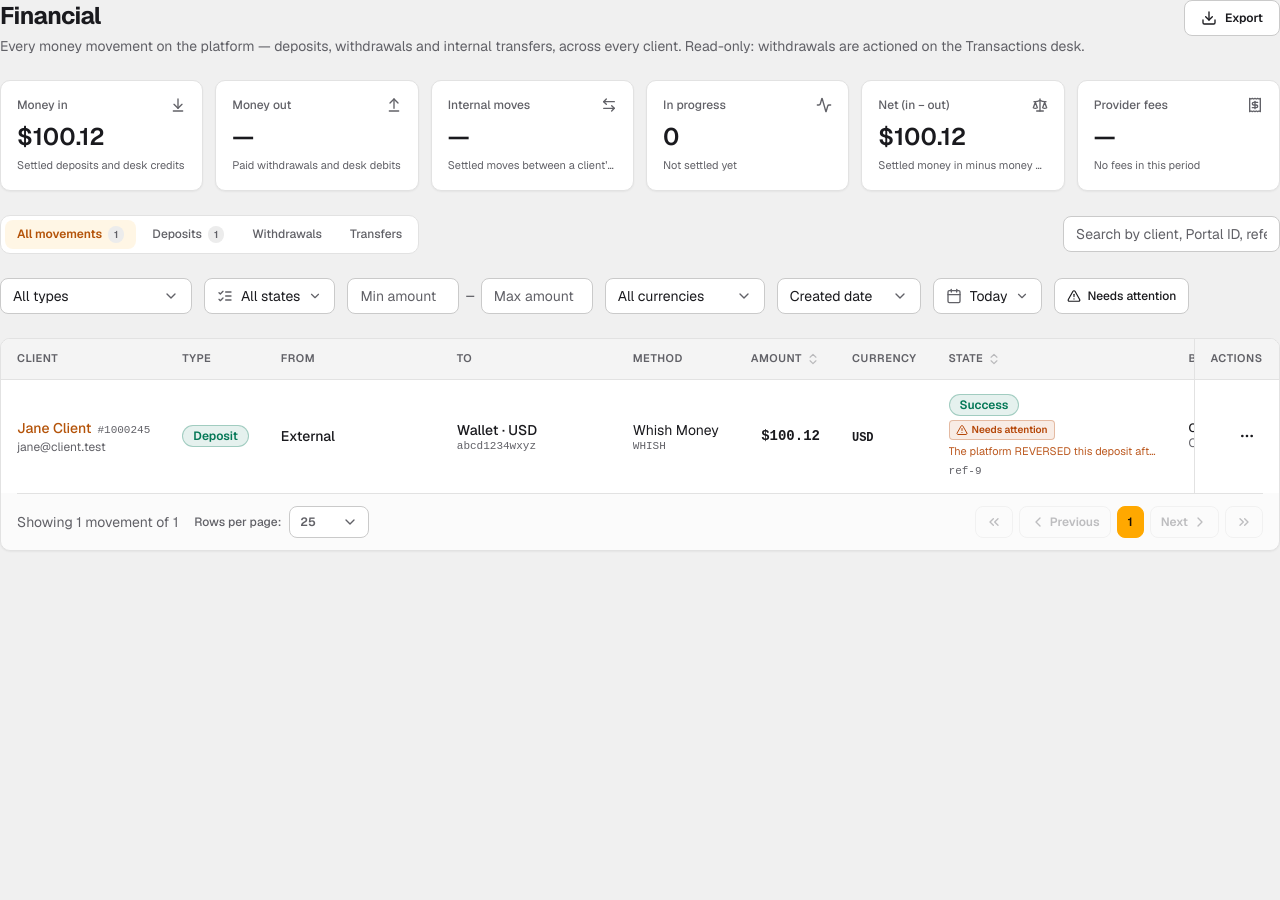
Test: a payment only a person can settle — the attention flag › keeps the refusal on screen — "somebody resolved it while you were looking"
Click the button named "Actions for this movement" at (1247, 436), box [1231,420,1263,452]
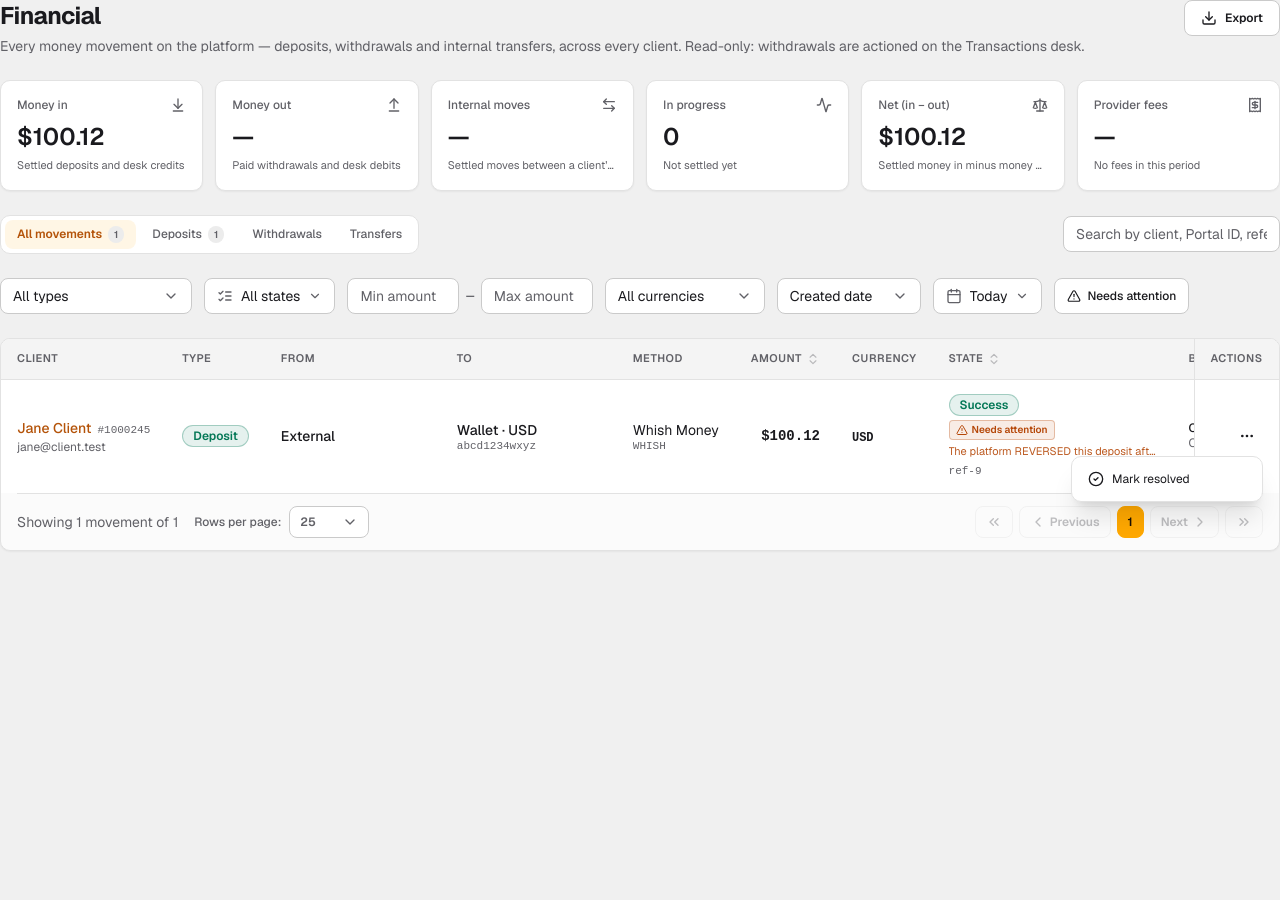
Click the menu item "Mark resolved" at (1139, 479), box [1088,471,1190,487]
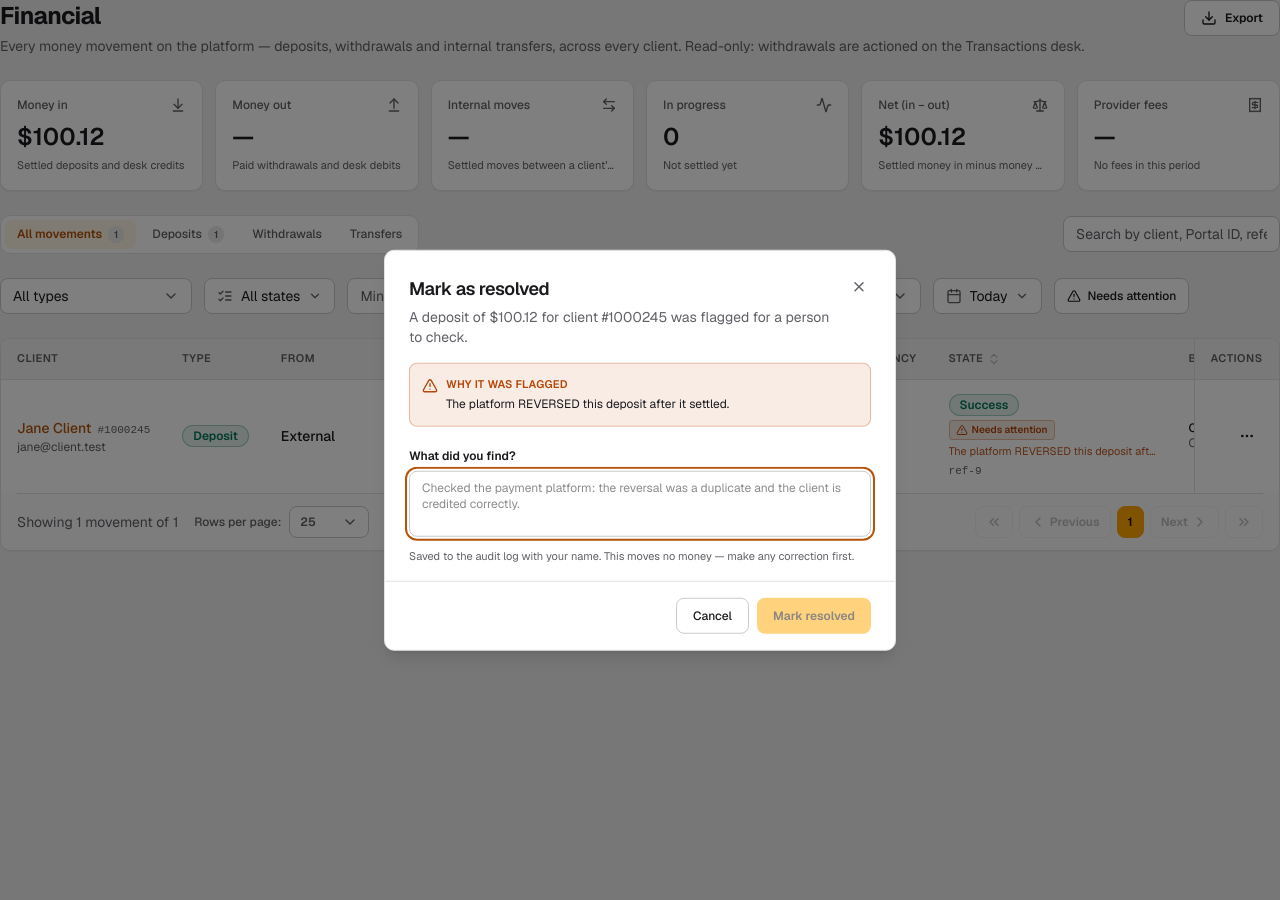
Type "Checked the dashboard." into the text box labelled "What did you find?" at (640, 504), box [409,471,871,537]
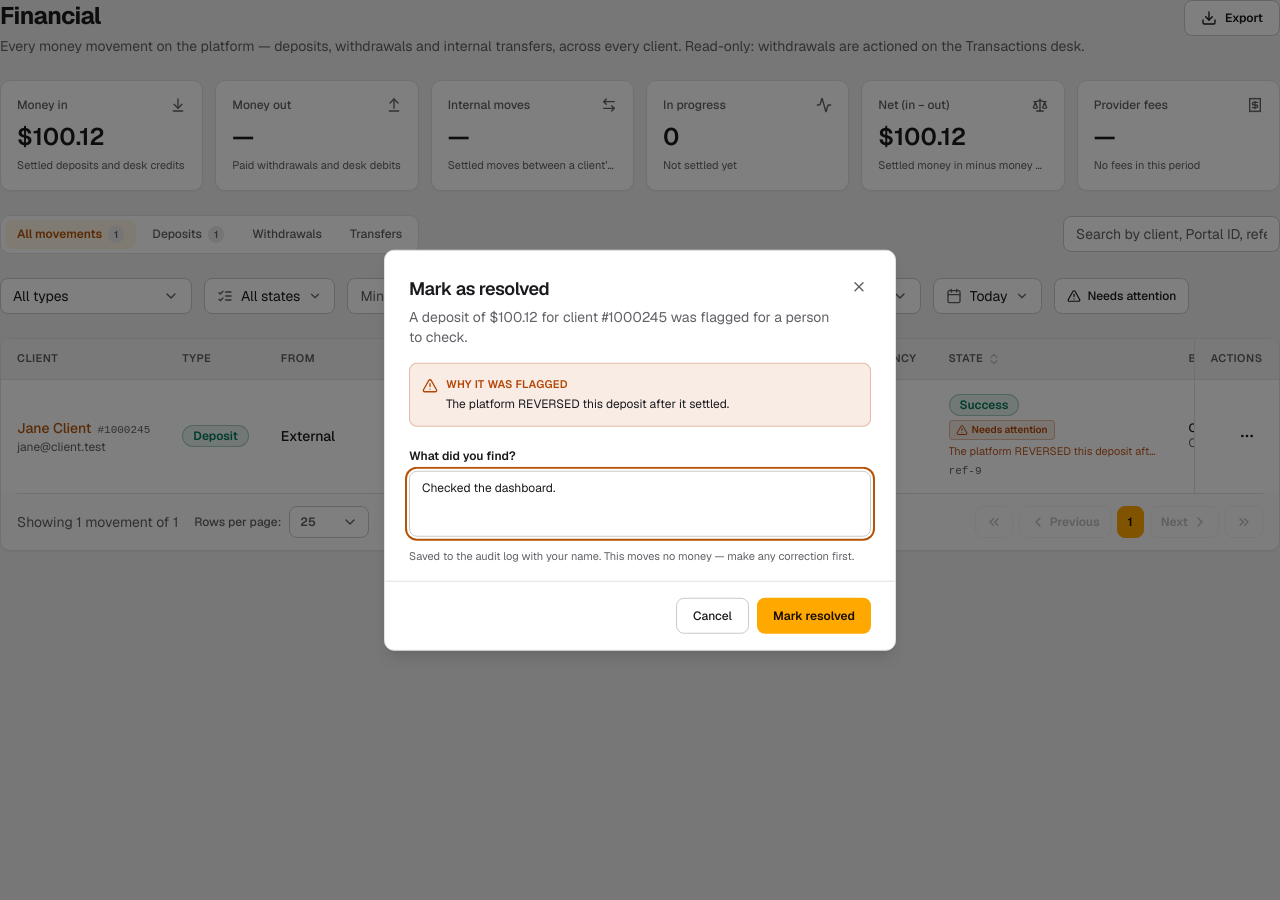
Click the button "Mark resolved" at (814, 615), box [757,597,871,633]
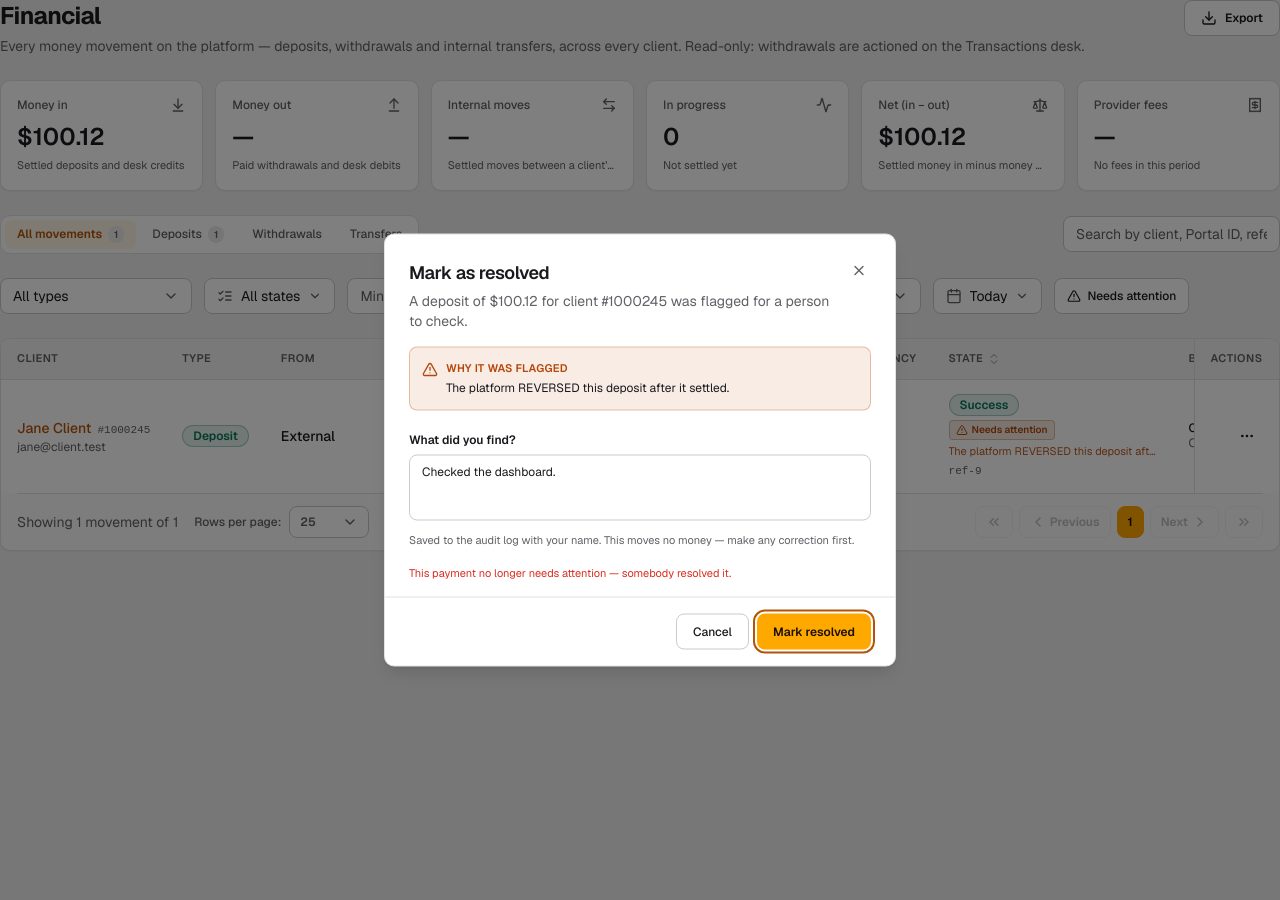
Expected: the dialog "Mark as resolved" is shown, [384,234,896,666]
Expected: the message "This payment no longer needs attention — somebody resolved it." is shown, [409,565,731,579]
